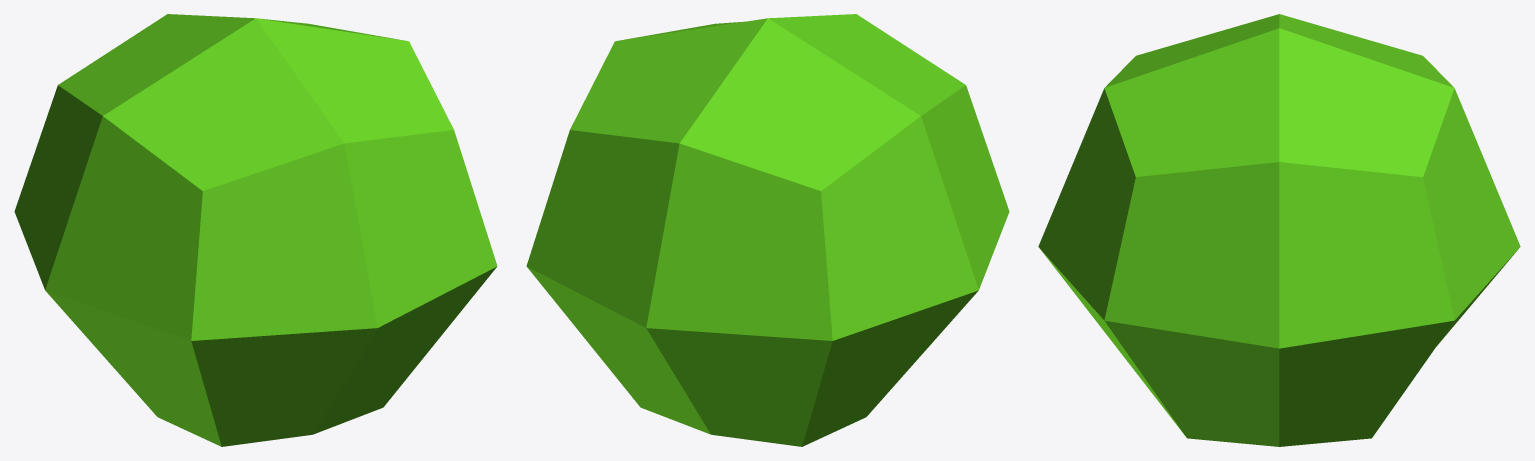
File: Bush.glb
The picture shows the model from 3 angles, left to right: view 1: azimuth 30°, elevation 25°; view 2: azimuth 150°, elevation 25°; view 3: azimuth 270°, elevation 25°; orthographic projection.
Parts seen in each view (by area): view 1: Bush; view 2: Bush; view 3: Bush.
Boxes of the visible parts, x1,y1,x2,y2 form: Bush: (14,14,497,446); Bush: (526,14,1009,446); Bush: (1038,14,1520,446).
Size of the model in its own units: 1.89 by 1.6 by 1.89.
Materials: 1 (1 with a texture image).
